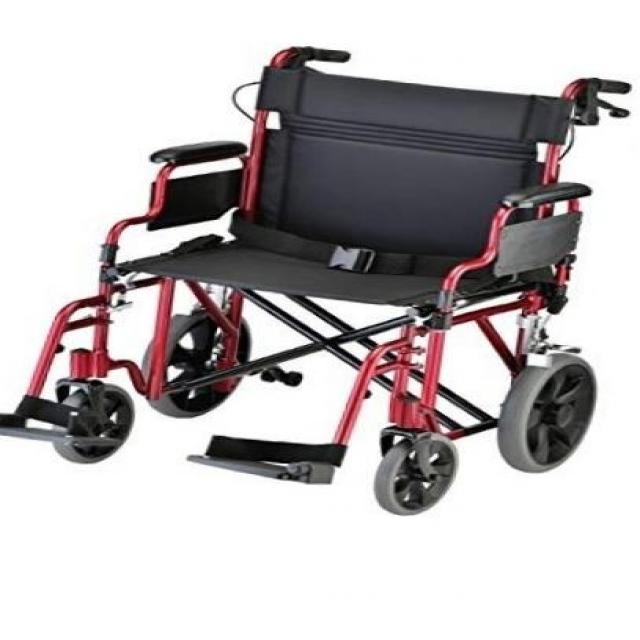wheelchair: (6, 38, 638, 542)
